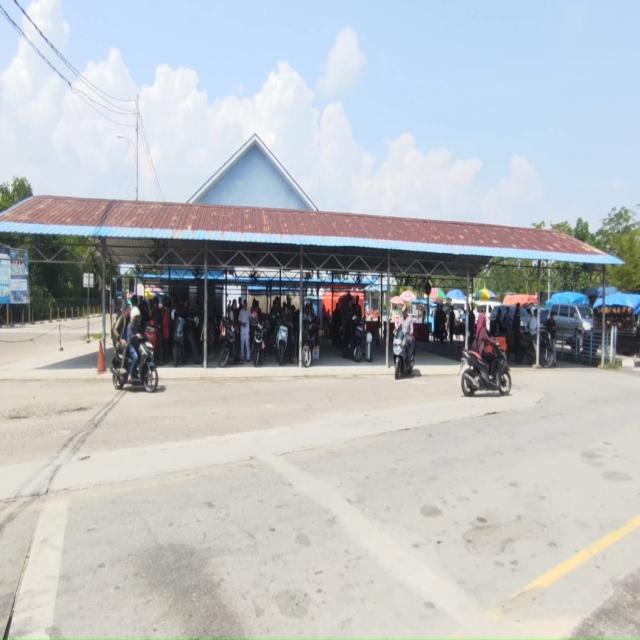Golongan II: (460, 344, 512, 397), (110, 341, 158, 393), (516, 328, 554, 368), (173, 316, 199, 367), (393, 328, 415, 380), (342, 314, 365, 363), (218, 318, 236, 368), (302, 320, 318, 368), (173, 317, 186, 367), (251, 321, 265, 366), (276, 324, 289, 366), (144, 318, 158, 352)
